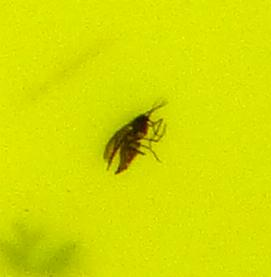Nematocera: (100, 100, 171, 177)
